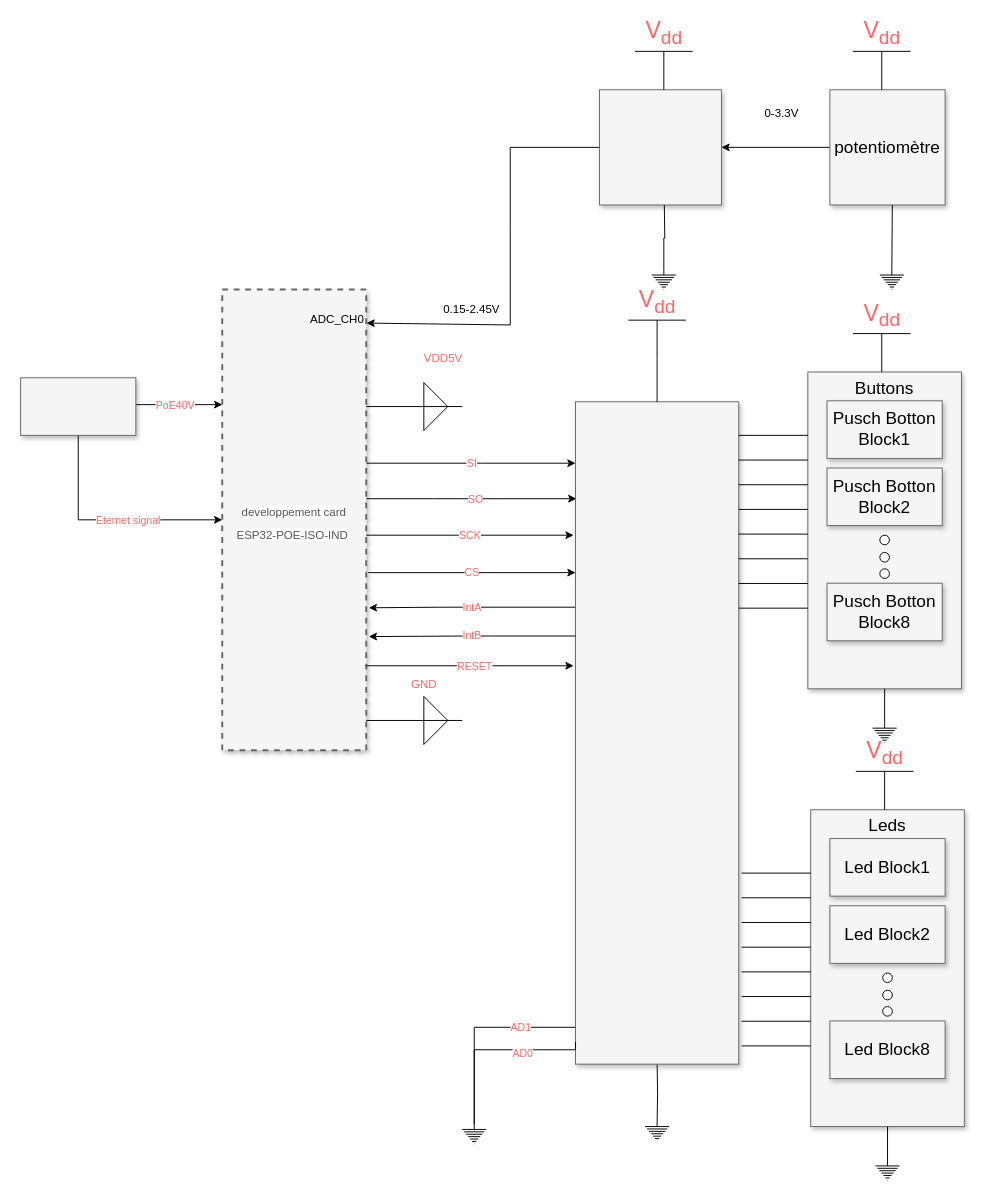
This 987x1197 diagram has some shape labels left out. The centre of each missing label's shape, as x and y in pixels:
"Ethernet PoE" belongs at [79,407].
"GPIO Extend MCP23S18" belongs at [657,734].
"potentiomètre filtre AOP" belongs at [661,148].
